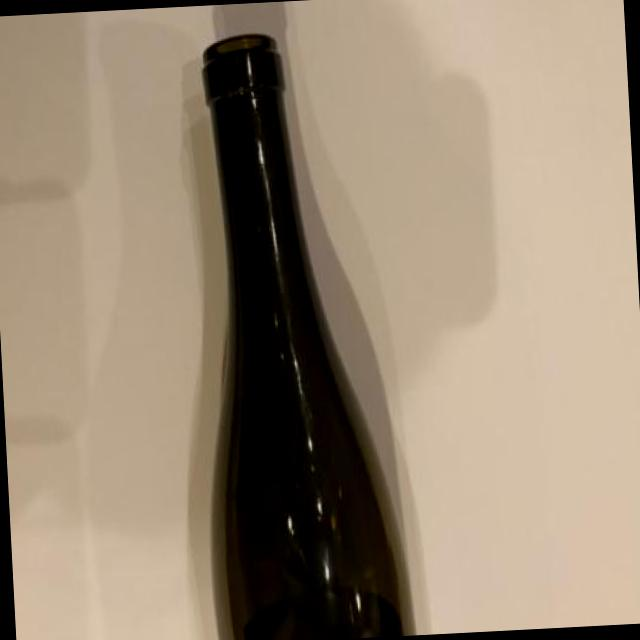chai_thuy_tinh: (202, 35, 413, 640)
